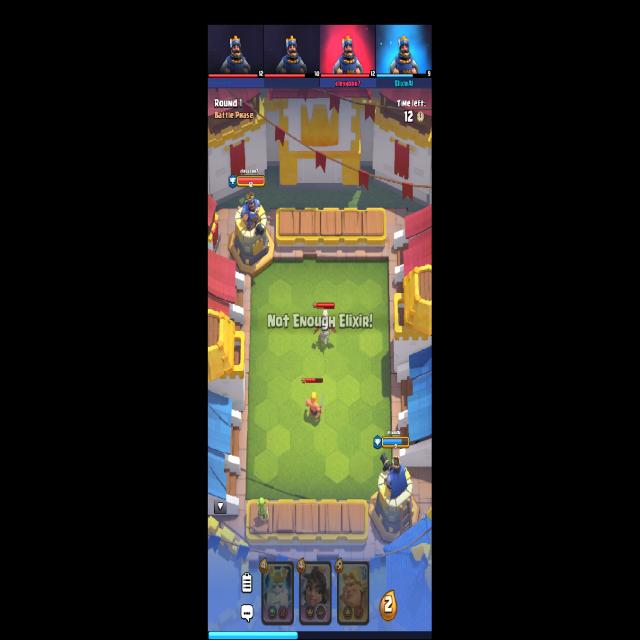barbarian: (304, 391, 326, 423)
card_golden_knight: (336, 559, 369, 627)
card_princess: (299, 561, 332, 624)
card_royal_ghost: (261, 560, 294, 623)
goblin: (257, 497, 270, 524)
skeleton_dragon: (314, 310, 335, 347)
